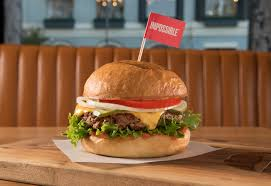hamburger: (78, 59, 195, 156)
